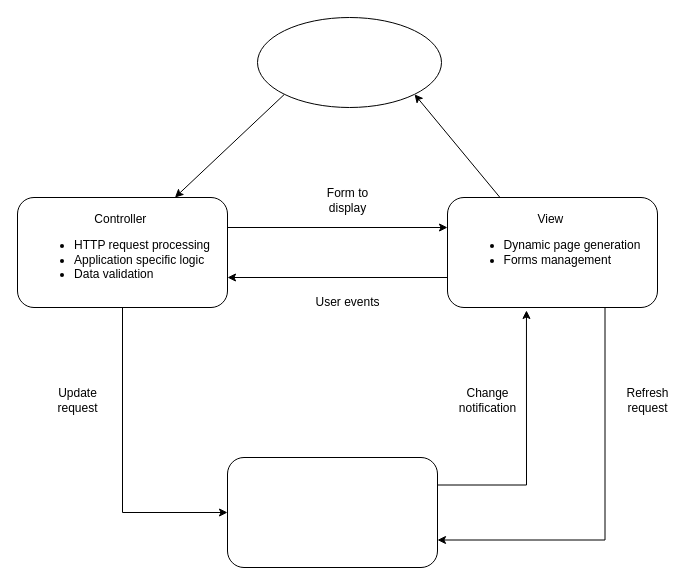
Image size: 700x585. Some labels were removed from this diagram. The box of each missing label's shape, as (x1, y1, x2, y2) in pixels:
Model Business Logic Database: (226, 456, 438, 568)
web Browser: (256, 16, 442, 108)
